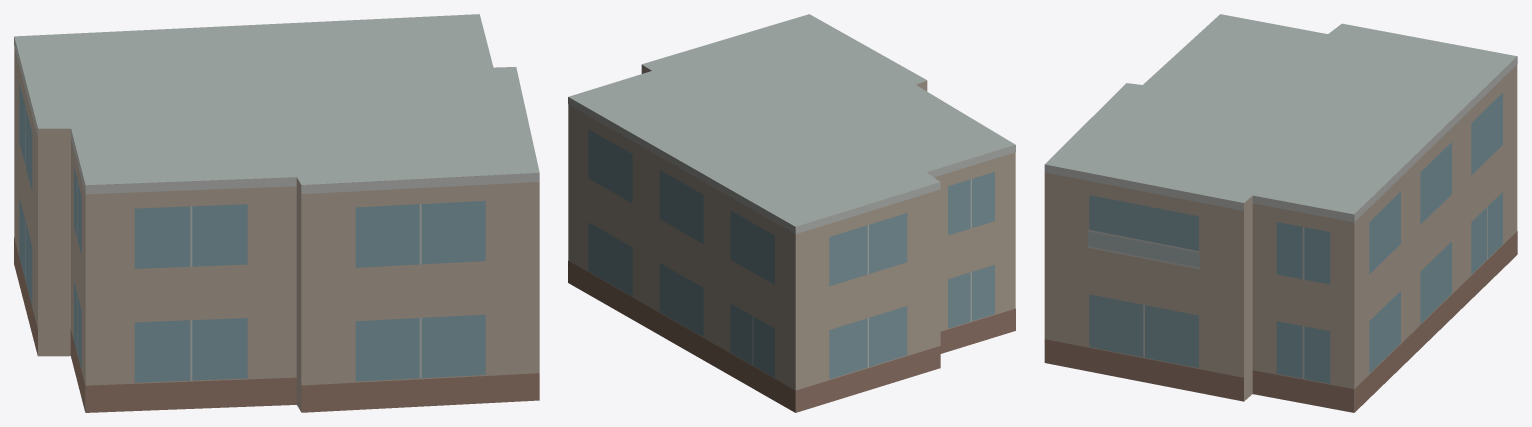
The model's file is survey-upis-32654677.glb.
The picture shows the model from 3 angles, left to right: view 1: azimuth 30°, elevation 25°; view 2: azimuth 150°, elevation 25°; view 3: azimuth 270°, elevation 25°; orthographic projection. The views are drawn at different scales.
Parts seen in each view (by area): view 1: survey-upis-32654677.tmp; view 2: survey-upis-32654677.tmp; view 3: survey-upis-32654677.tmp.
Boxes of the visible parts, left/top/right/bottom form: survey-upis-32654677.tmp: left=14, top=14, right=539, bottom=412; survey-upis-32654677.tmp: left=568, top=14, right=1015, bottom=412; survey-upis-32654677.tmp: left=1044, top=14, right=1517, bottom=412.
Size of the model in its own units: 13.22 by 6.1 by 13.18.
